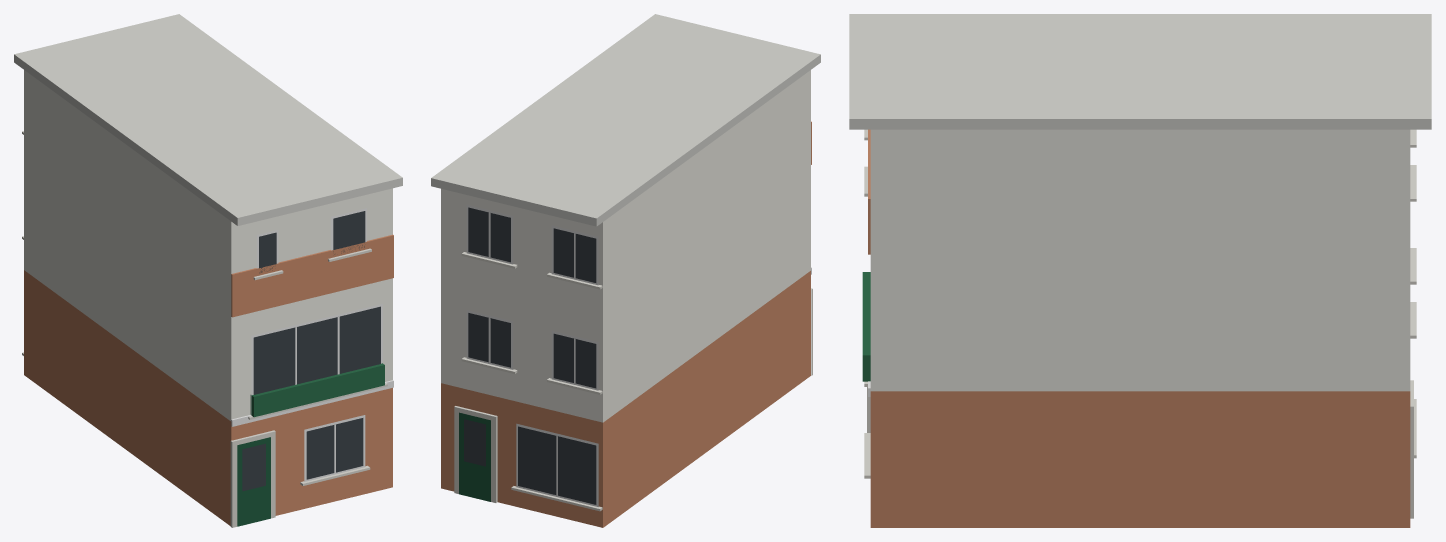
The model's file is nw-os-tretjakov__green__3__flat__long__solid.glb.
3 views of the same model, side by side, from view 1: azimuth 30°, elevation 25°; view 2: azimuth 150°, elevation 25°; view 3: azimuth 270°, elevation 25° (orthographic). The views are drawn at different scales.
Parts seen in each view (by area): view 1: nw-os-tretjakov__green__3__flat__long__solid; view 2: nw-os-tretjakov__green__3__flat__long__solid; view 3: nw-os-tretjakov__green__3__flat__long__solid.
Part boxes in pixels (left/top/right/bottom): nw-os-tretjakov__green__3__flat__long__solid: left=14, top=14, right=402, bottom=527; nw-os-tretjakov__green__3__flat__long__solid: left=431, top=14, right=820, bottom=527; nw-os-tretjakov__green__3__flat__long__solid: left=849, top=14, right=1431, bottom=527.
Size of the model in its own units: 4.66 by 8.5 by 10.93.
